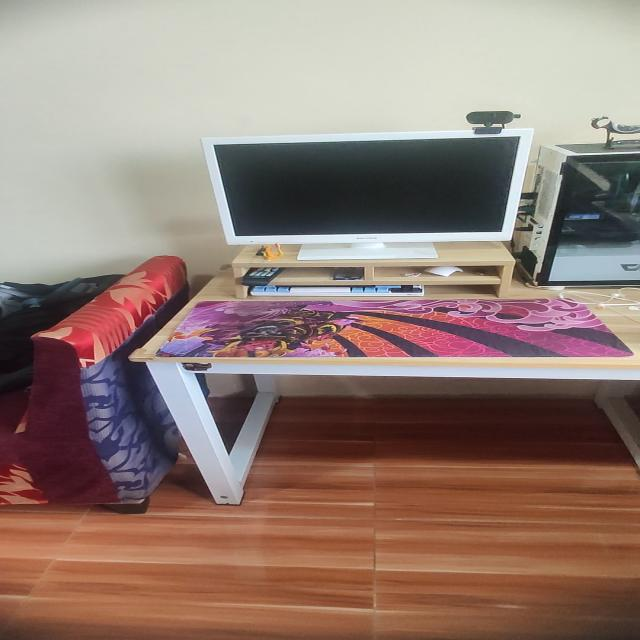table: (130, 259, 640, 506)
